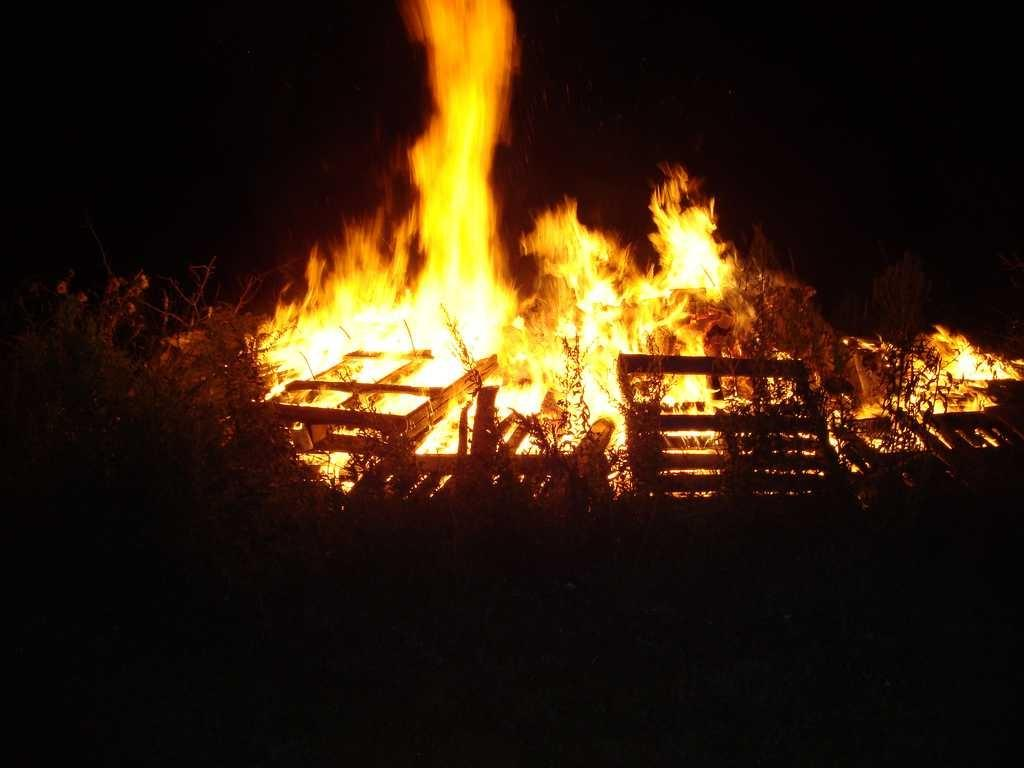fire: (430, 8, 492, 342), (542, 236, 616, 394), (322, 300, 418, 356), (668, 214, 718, 296)
